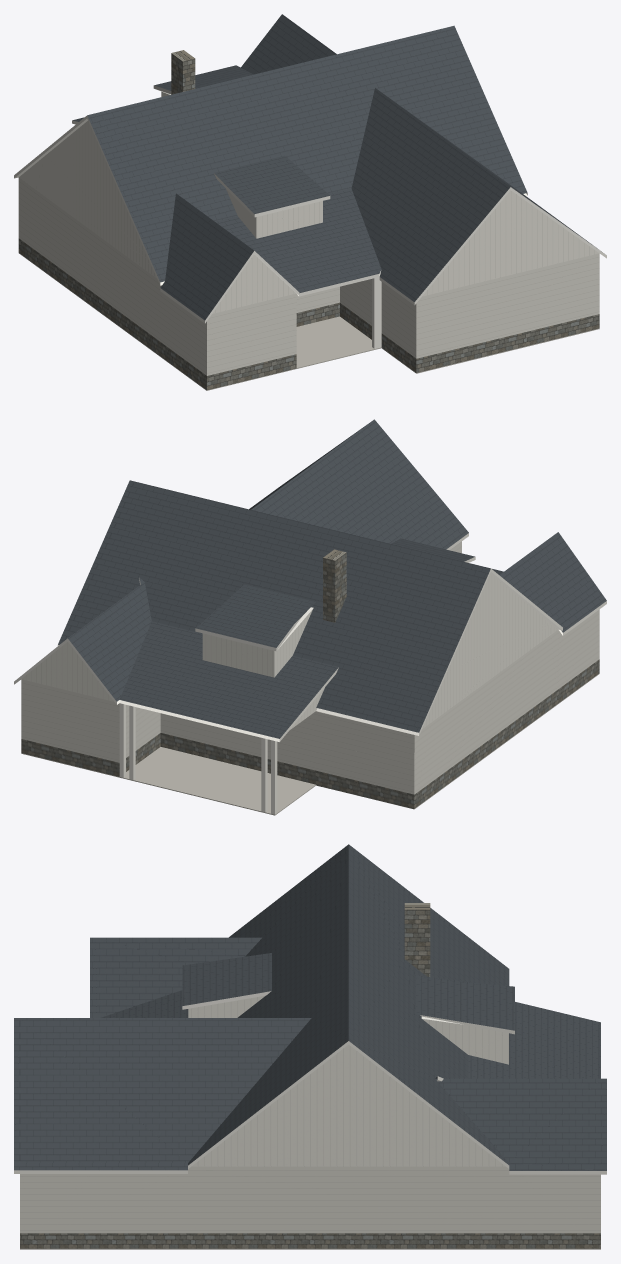
3 views of the same model, one above another, from view 1: azimuth 30°, elevation 25°; view 2: azimuth 150°, elevation 25°; view 3: azimuth 270°, elevation 25° (orthographic). The views are drawn at different scales.
Visible parts, largest first — view 1: Fairy_Part_04, Front, Left, Fairy_Part_08, Front_Left_Room_Facade, Fairy_Part_09, House_Roof_Thickness_Eaves_04, Fairy_Part_27, Front_Left_Room_Left_Return, Front_Porch_Deck, Fairy_Part_13, Fairy_Part_15 (+7 smaller); view 2: Fairy_Part_00, Left, Back (×2), Fairy_Part_08, Fairy_Part_02, Restored house floor, Fairy_Part_03, Fairy_Part_05, Fairy_Part_13, Fairy_Part_09, Front_Left_Room_Left_Return, House_Roof_Thickness_Eaves_00 (+8 smaller); view 3: right, Fairy_Part_17, Fairy_Part_04, Fairy_Part_00, Fairy_Part_12, Fairy_Part_07, Fairy_Part_02, Fairy_Part_03, House_Roof_Thickness_Eaves_17, House_Roof_Thickness_Eaves_04, Fairy_Part_01, House_Roof_Thickness_Eaves_12 (+3 smaller).
Boxes of the visible parts, x1,y1,x2,y2 form: Fairy_Part_04: (92, 27, 522, 289); Front: (416, 190, 599, 372); Left: (18, 121, 164, 358); Fairy_Part_08: (351, 88, 507, 294); Front_Left_Room_Facade: (207, 293, 296, 389); Fairy_Part_09: (165, 193, 251, 311); House_Roof_Thickness_Eaves_04: (87, 25, 527, 296); Fairy_Part_27: (340, 279, 416, 372); Front_Left_Room_Left_Return: (165, 295, 206, 389); Front_Porch_Deck: (296, 316, 373, 367); Fairy_Part_13: (244, 16, 336, 74); Fairy_Part_15: (212, 254, 295, 313); Fairy_Part_00: (65, 481, 486, 731); Left: (414, 574, 558, 808); Back (×2): (21, 642, 414, 808); Fairy_Part_08: (251, 421, 461, 547); Fairy_Part_02: (119, 621, 334, 737); Restored house floor: (21, 673, 599, 815); Fairy_Part_03: (202, 584, 315, 677); Fairy_Part_05: (160, 711, 316, 784); Fairy_Part_13: (70, 582, 151, 699); Fairy_Part_09: (499, 534, 599, 624); Front_Left_Room_Left_Return: (558, 609, 599, 702); House_Roof_Thickness_Eaves_00: (57, 480, 490, 735); right: (20, 1044, 600, 1248); Fairy_Part_17: (20, 1018, 311, 1162); Fairy_Part_04: (101, 847, 348, 1161); Fairy_Part_00: (348, 847, 509, 1162); Fairy_Part_12: (435, 1078, 600, 1162); Fairy_Part_07: (96, 937, 261, 1017); Fairy_Part_02: (468, 1004, 600, 1078); Fairy_Part_03: (416, 975, 508, 1064); House_Roof_Thickness_Eaves_17: (14, 1018, 187, 1173); House_Roof_Thickness_Eaves_04: (182, 844, 348, 1168); Fairy_Part_01: (404, 903, 430, 976); House_Roof_Thickness_Eaves_12: (509, 1078, 606, 1174).
Size of what is drawn, in the model's own units: 14076 by 7260 by 17937.
Materials: 7 (5 with a texture image).
